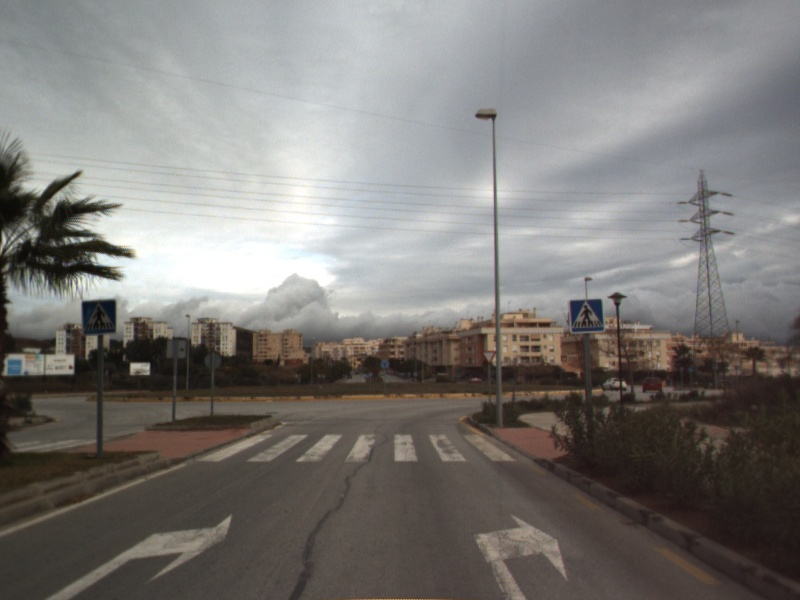RIGHT: (42, 512, 234, 600), (472, 512, 570, 600)
